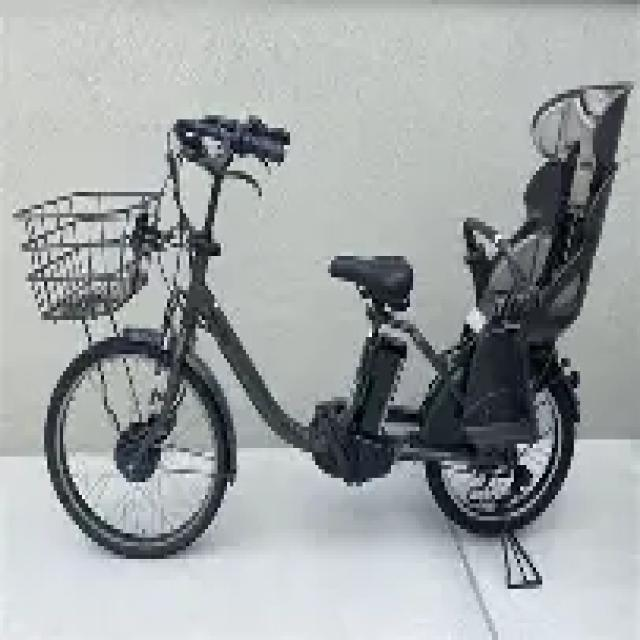basket: (12, 188, 161, 319)
battery: (359, 336, 404, 440)
childseat: (451, 77, 636, 458)
